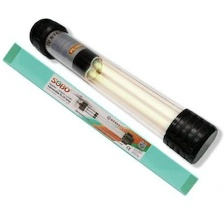book: (3, 41, 206, 197)
light_bulb: (27, 15, 223, 165)
